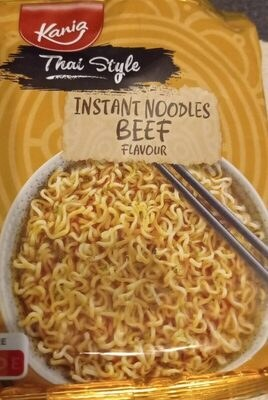Kania: (13, 20, 255, 380)
